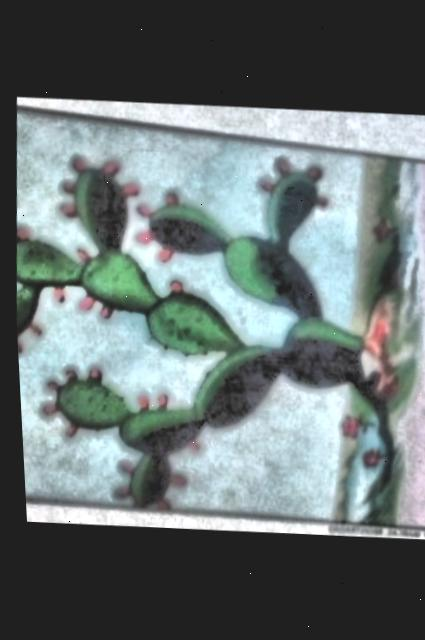El Nopal: (13, 113, 425, 532)
